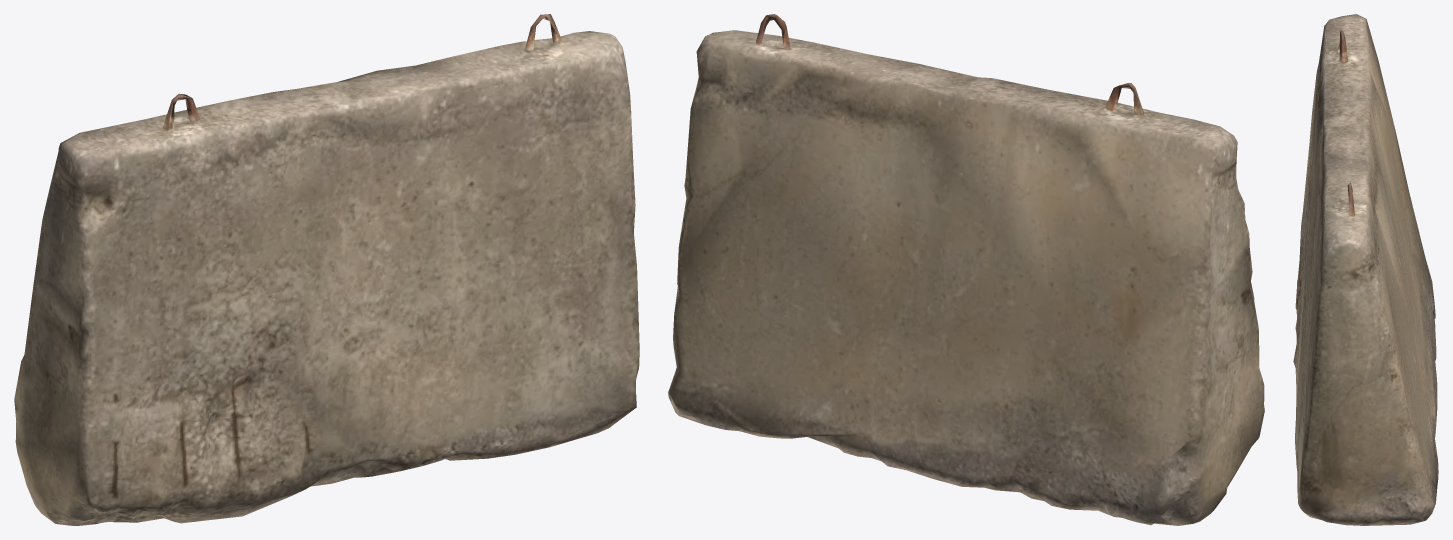
File: concrete_road_barrier_02.glb
3 renders of one model, left to right at view 1: azimuth 30°, elevation 25°; view 2: azimuth 150°, elevation 25°; view 3: azimuth 270°, elevation 25°, orthographic. The views are drawn at different scales.
Visible parts, largest first — view 1: concrete_road_barrier_02; view 2: concrete_road_barrier_02; view 3: concrete_road_barrier_02.
Part boxes in pixels (<box>): concrete_road_barrier_02: <box>14,14,639,525</box>; concrete_road_barrier_02: <box>668,14,1264,525</box>; concrete_road_barrier_02: <box>1293,14,1438,525</box>.
Bounding box in the file's own units: 1.56 × 1.11 × 0.4413.
Materials: 1 (1 with a texture image).
